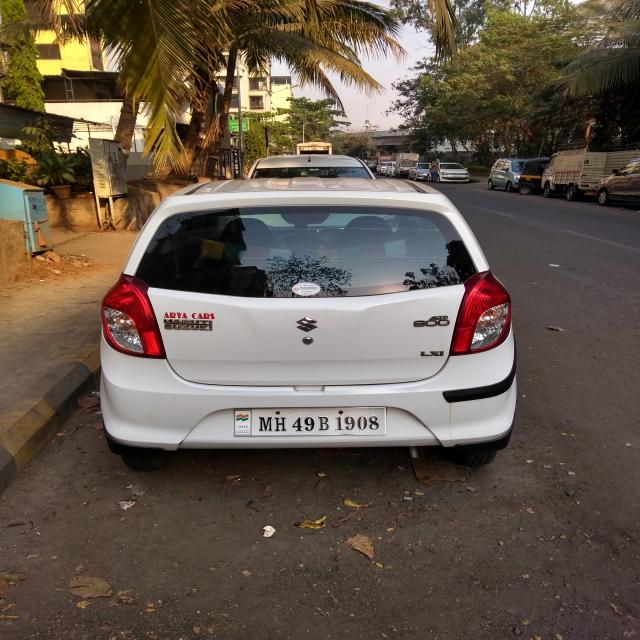Number-Plate: (239, 407, 381, 436)
